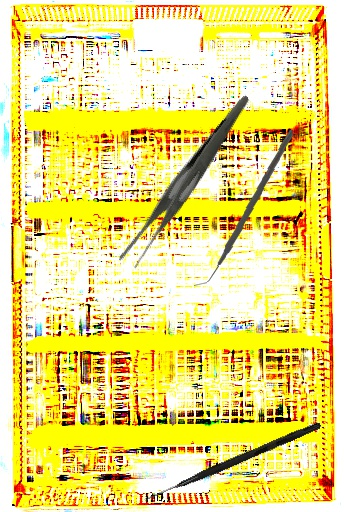Chopper: (186, 129, 301, 287)
Dressing Forceps: (84, 94, 291, 274)
Hook Surgical: (143, 419, 322, 506)
